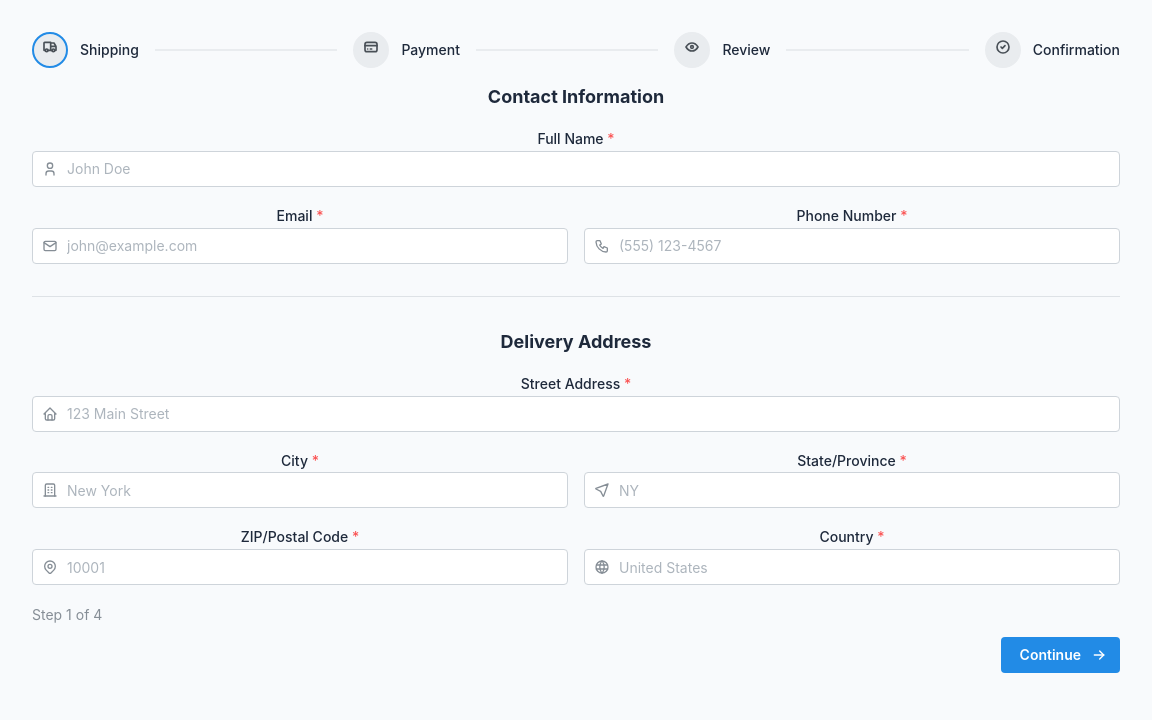
CheckoutForm › Step Validation › shows error state on step when validation fails
The image size is (1152, 720).
In the field labelled "Email *": (300, 246) [32,228,568,264], type "invalid-email"
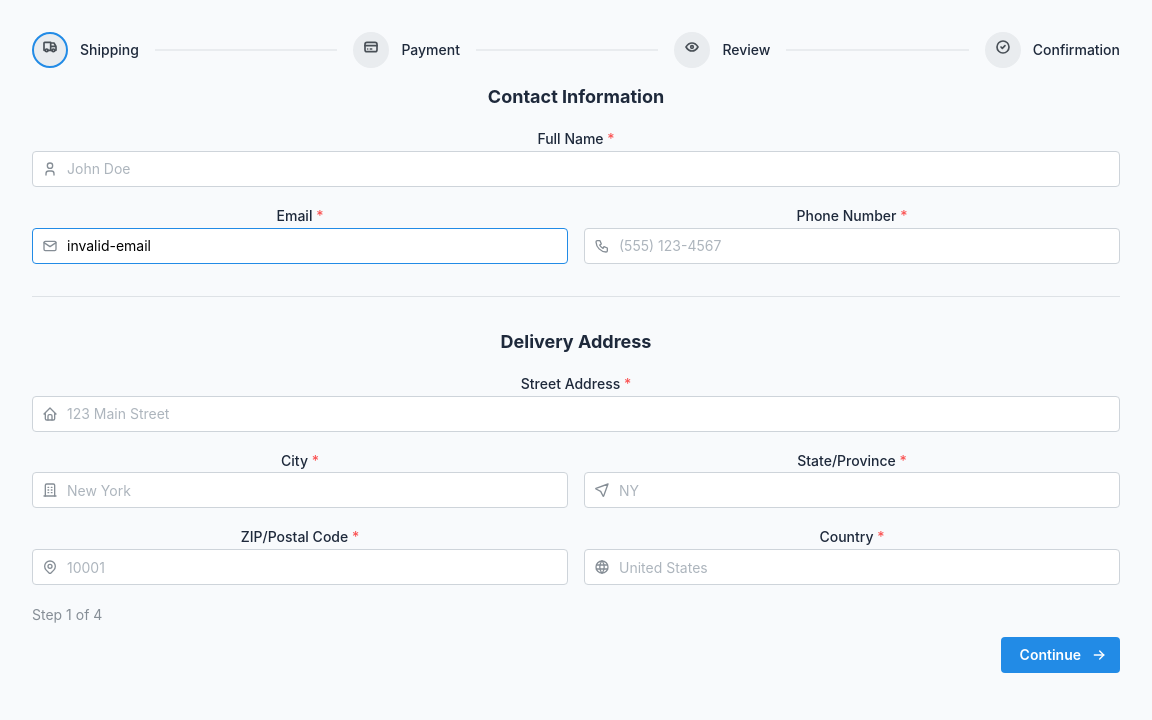
Click the button "Continue": (1060, 656) [1001,638,1120,674]
(page scrolled)
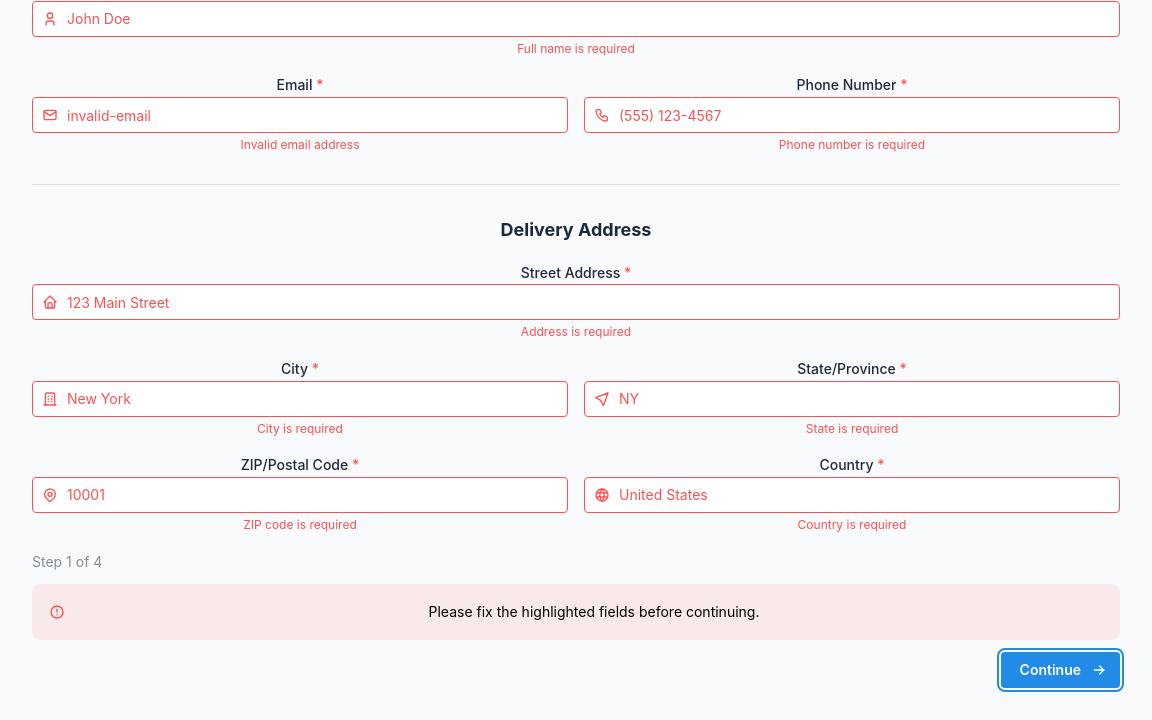
Check: the text "Please fix the highlighted fields before continuing." is shown, box [428,603,759,620]
